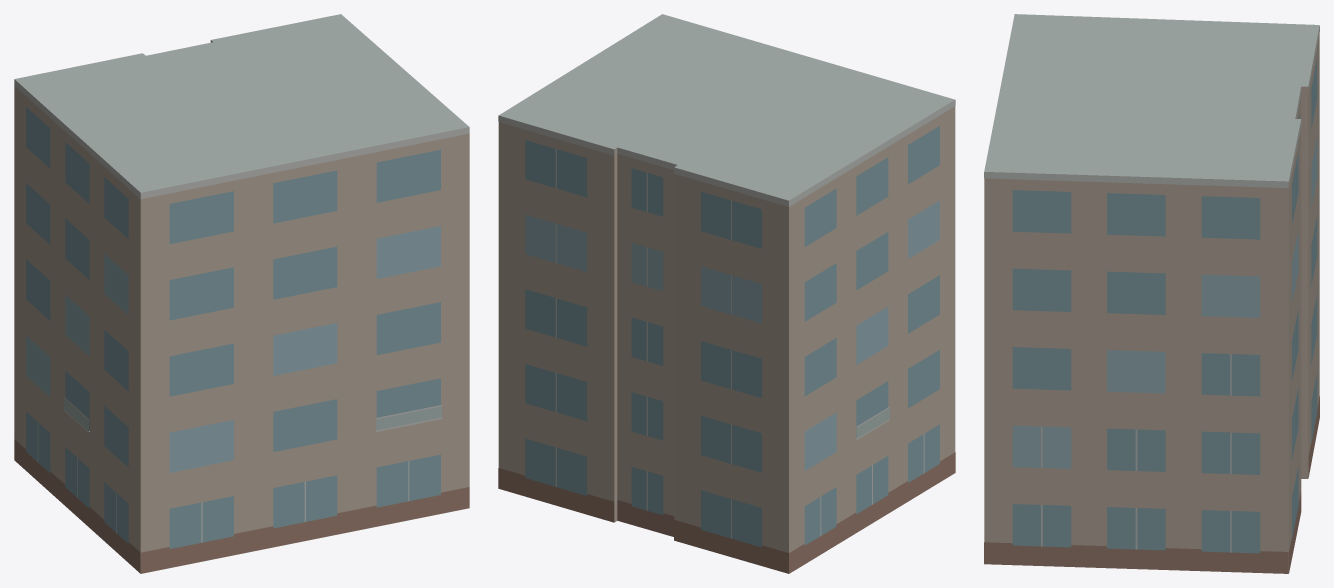
Rendered from survey-upis-32652693.glb.
3 renders of one model, left to right at view 1: azimuth 30°, elevation 25°; view 2: azimuth 150°, elevation 25°; view 3: azimuth 270°, elevation 25°, orthographic. The views are drawn at different scales.
Visible parts, largest first — view 1: survey-upis-32652693.tmp; view 2: survey-upis-32652693.tmp; view 3: survey-upis-32652693.tmp.
Boxes of the visible parts, x1,y1,x2,y2 form: survey-upis-32652693.tmp: (14,14,469,573); survey-upis-32652693.tmp: (498,14,955,573); survey-upis-32652693.tmp: (984,14,1319,573).
Bounding box in the file's own units: 13.29 × 14.5 × 11.25.
